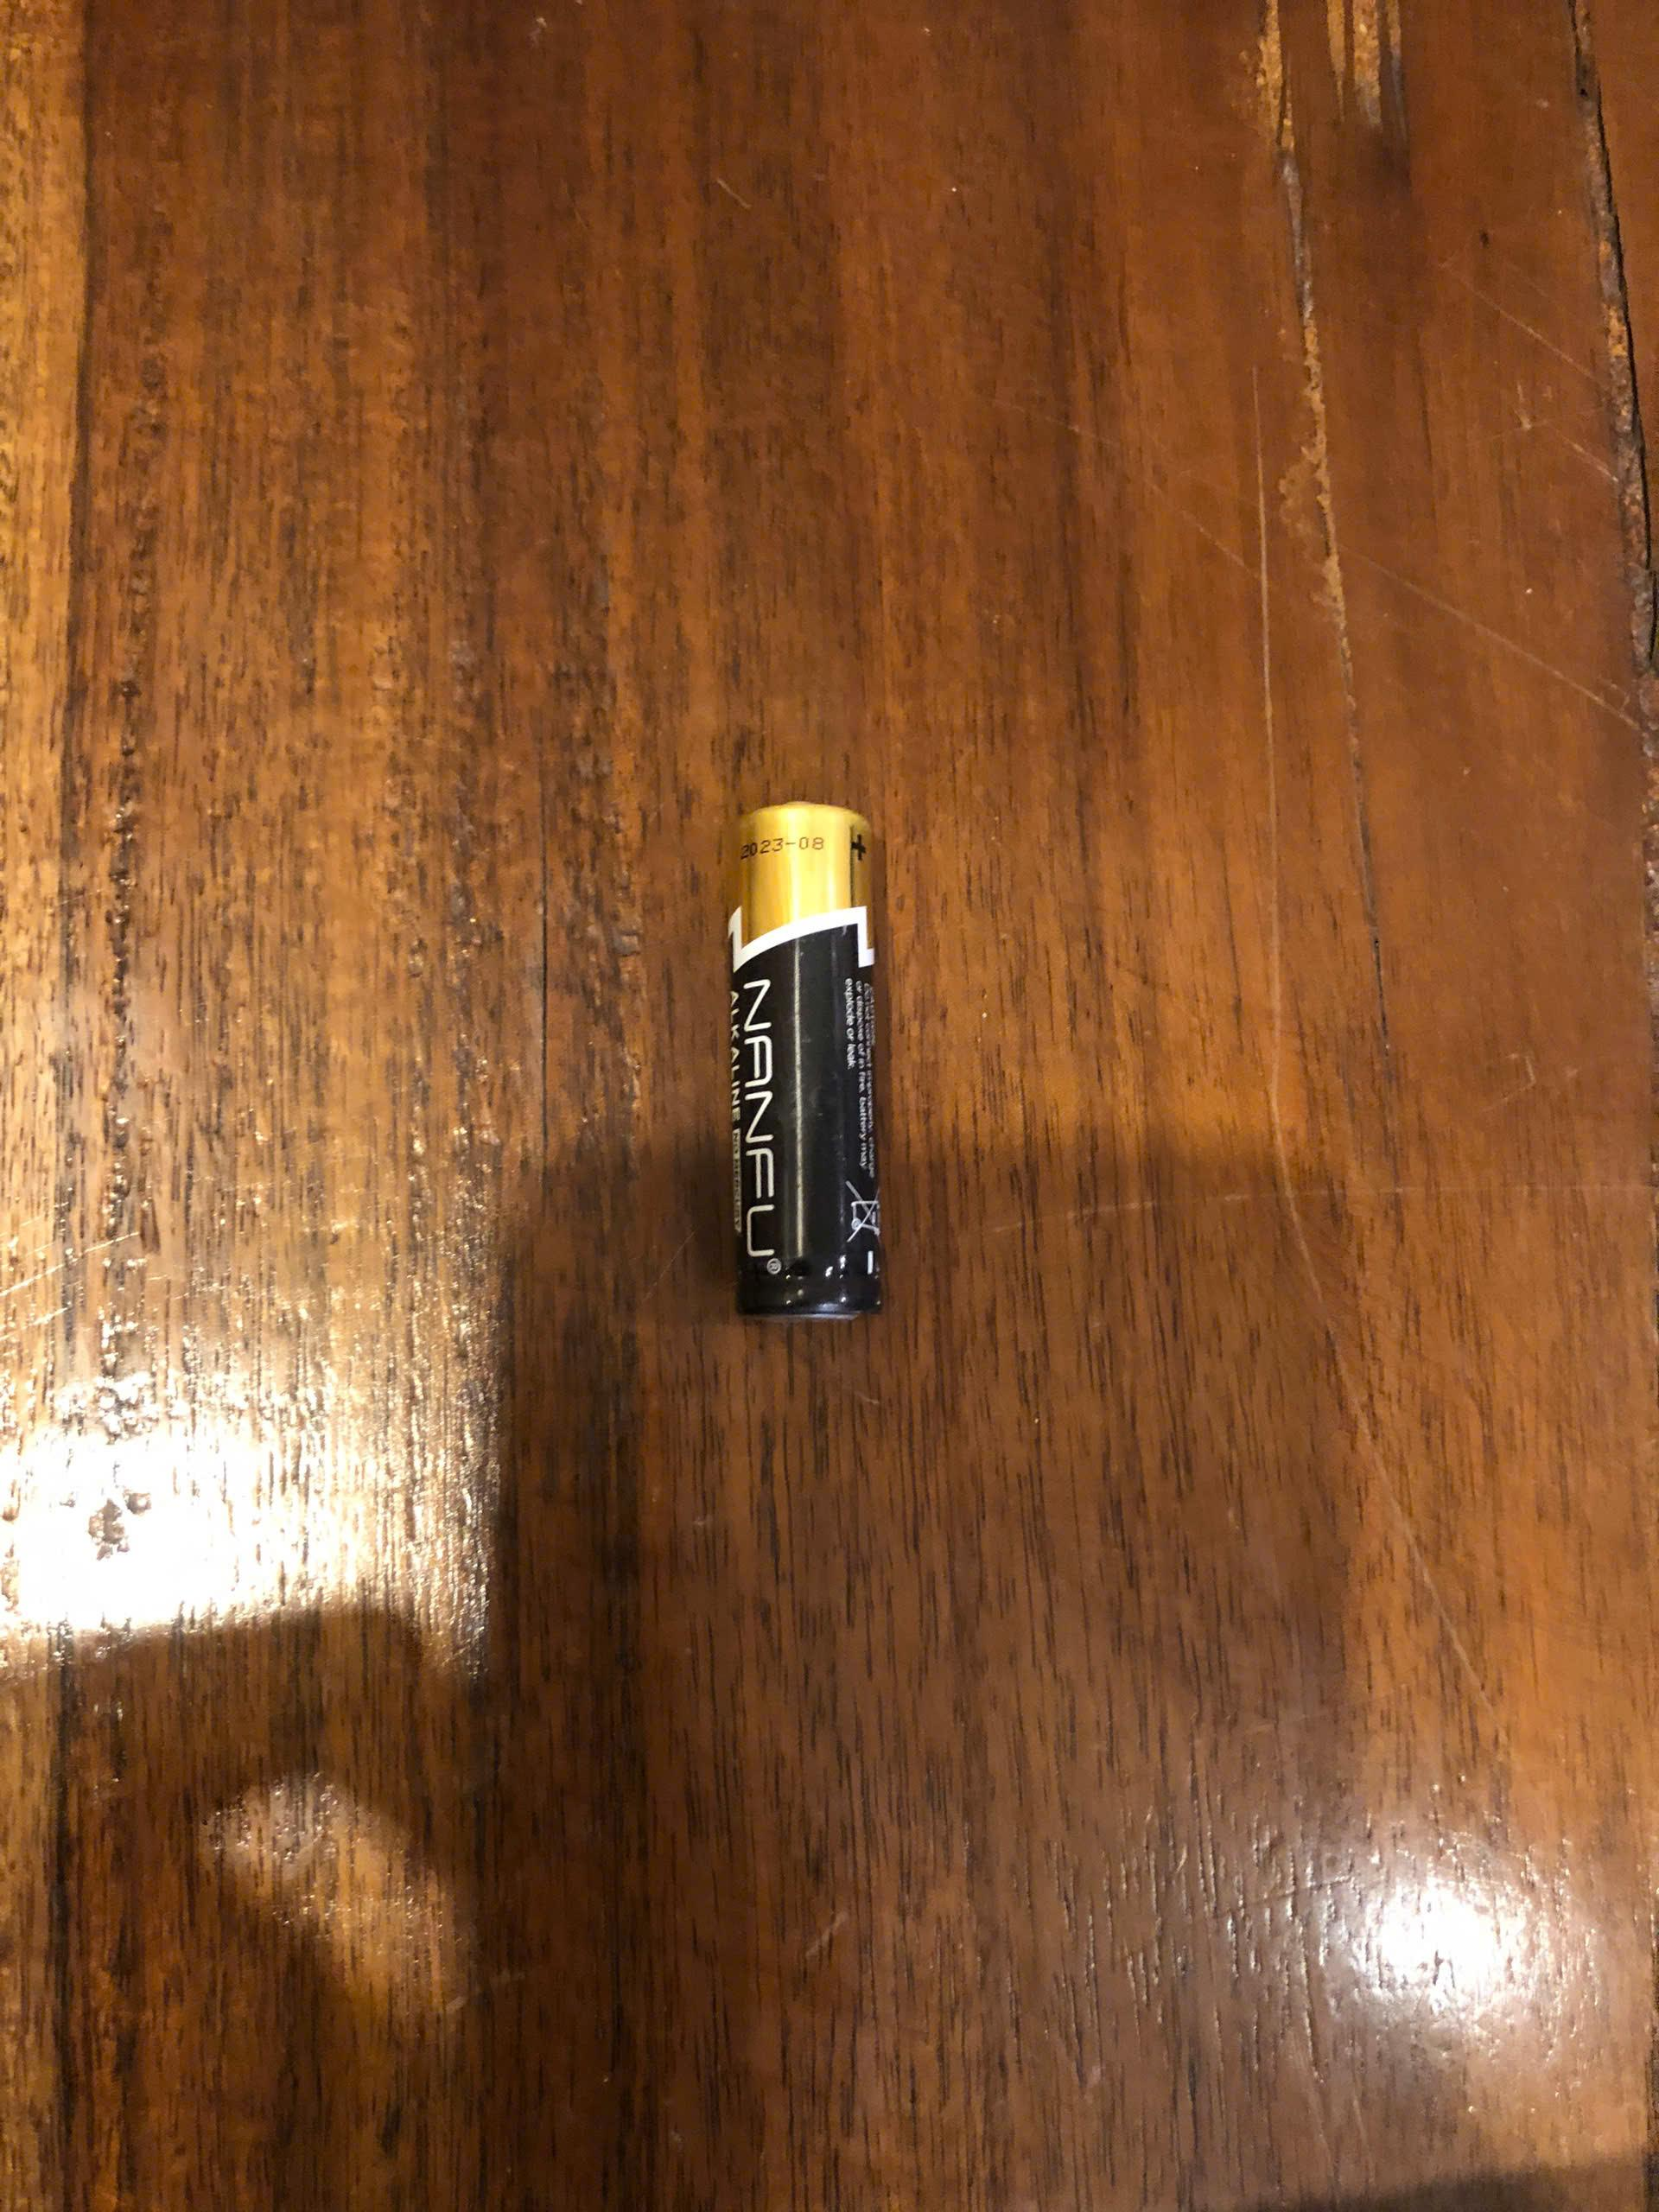Con lai: (730, 791, 899, 1353)
